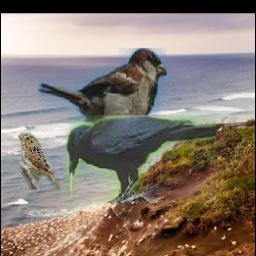Crow: (67, 115, 217, 203)
Sparrow: (38, 49, 167, 164), (19, 133, 64, 190)
